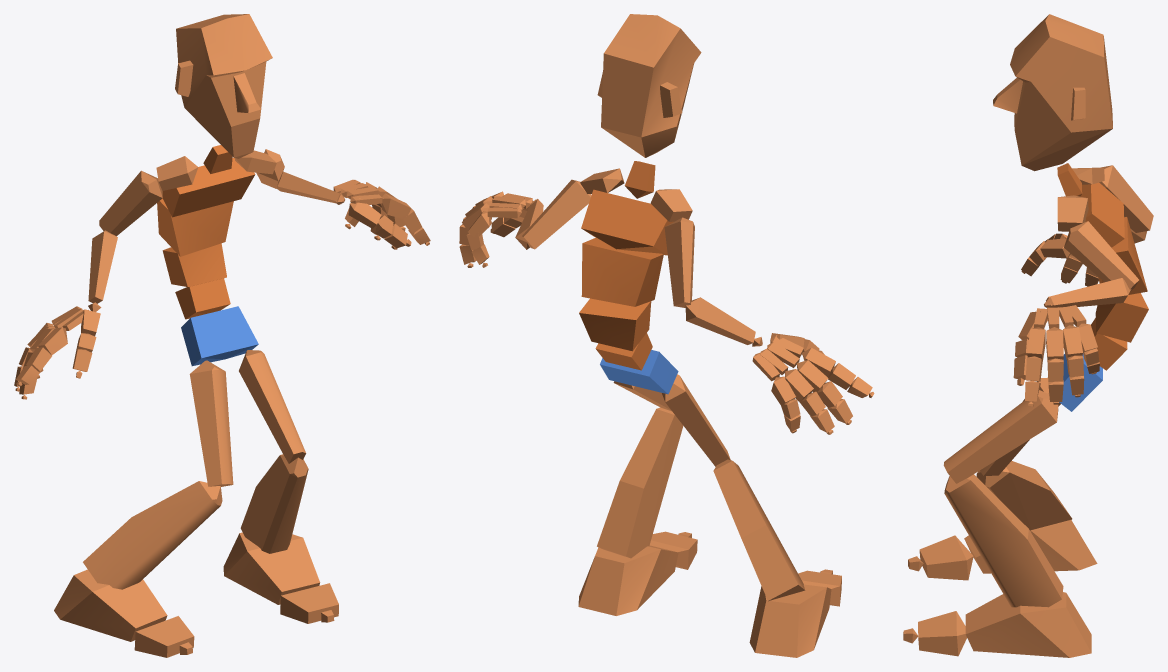
File: prueba296.obj
3 views of the same model, side by side, from view 1: azimuth 30°, elevation 25°; view 2: azimuth 150°, elevation 25°; view 3: azimuth 270°, elevation 25° (orthographic). The views are drawn at different scales.
Visible parts, largest first — view 1: BOPED_Head, BOPED_R_leg, BOPED_R_foot, BOPED_L_leg, BOPED_R_foot01, BOPED_R_legup, Bone01, BOPED_L_legup, Bone04, Bone05, BOPED_R_arm_upper, Bone03 (+8 smaller); view 2: BOPED_Head, BOPED_L_leg, BOPED_R_leg, BOPED_R_foot01, BOPED_R_foot, Bone04, Bone05, Bone03, BOPED_R_legup, BOPED_R_arm_upper, BOPED_L_arm_upper, Bone01 (+7 smaller); view 3: BOPED_Head, BOPED_L_leg, BOPED_R_foot01, BOPED_L_legup, BOPED_R_leg, BOPED_R_foot, BOPED_L_arm_upper, Bone05, BOPED_R_foot_toe01, Bone03, BOPED_R_foot_toe04, BOPED_L_arm_fore (+15 smaller).
Boxes of the visible parts, x1=… form: BOPED_Head: x1=175, y1=14, x2=272, y2=158; BOPED_R_leg: x1=83, y1=481, x2=222, y2=589; BOPED_R_foot: x1=54, y1=569, x2=167, y2=641; BOPED_L_leg: x1=240, y1=454, x2=308, y2=553; BOPED_R_foot01: x1=223, y1=532, x2=320, y2=604; BOPED_R_legup: x1=189, y1=360, x2=233, y2=486; Bone01: x1=181, y1=306, x2=258, y2=366; BOPED_L_legup: x1=239, y1=350, x2=306, y2=463; Bone04: x1=157, y1=198, x2=233, y2=256; Bone05: x1=162, y1=157, x2=255, y2=217; BOPED_R_arm_upper: x1=99, y1=170, x2=162, y2=236; Bone03: x1=162, y1=243, x2=226, y2=286; BOPED_Head: x1=597, y1=14, x2=701, y2=157; BOPED_L_leg: x1=597, y1=407, x2=683, y2=558; BOPED_R_leg: x1=713, y1=459, x2=805, y2=601; BOPED_R_foot01: x1=578, y1=545, x2=678, y2=615; BOPED_R_foot: x1=749, y1=584, x2=831, y2=657; Bone04: x1=581, y1=238, x2=663, y2=306; Bone05: x1=581, y1=189, x2=673, y2=255; Bone03: x1=579, y1=298, x2=651, y2=351; BOPED_R_legup: x1=662, y1=374, x2=730, y2=466; BOPED_R_arm_upper: x1=664, y1=217, x2=694, y2=307; BOPED_L_arm_upper: x1=522, y1=179, x2=591, y2=249; Bone01: x1=600, y1=350, x2=678, y2=394; BOPED_Head: x1=993, y1=14, x2=1112, y2=171; BOPED_L_leg: x1=944, y1=474, x2=1063, y2=607; BOPED_R_foot01: x1=965, y1=592, x2=1091, y2=657; BOPED_L_legup: x1=943, y1=390, x2=1058, y2=483; BOPED_R_leg: x1=976, y1=461, x2=1072, y2=530; BOPED_R_foot: x1=964, y1=520, x2=1097, y2=573; BOPED_L_arm_upper: x1=1064, y1=221, x2=1139, y2=291; Bone05: x1=1081, y1=182, x2=1124, y2=247; BOPED_R_foot_toe01: x1=919, y1=535, x2=973, y2=580; Bone03: x1=1095, y1=293, x2=1148, y2=342; BOPED_R_foot_toe04: x1=918, y1=611, x2=966, y2=656; BOPED_L_arm_fore: x1=1046, y1=278, x2=1131, y2=307.
Size of the model in its own units: 130 by 175 by 65.61.
